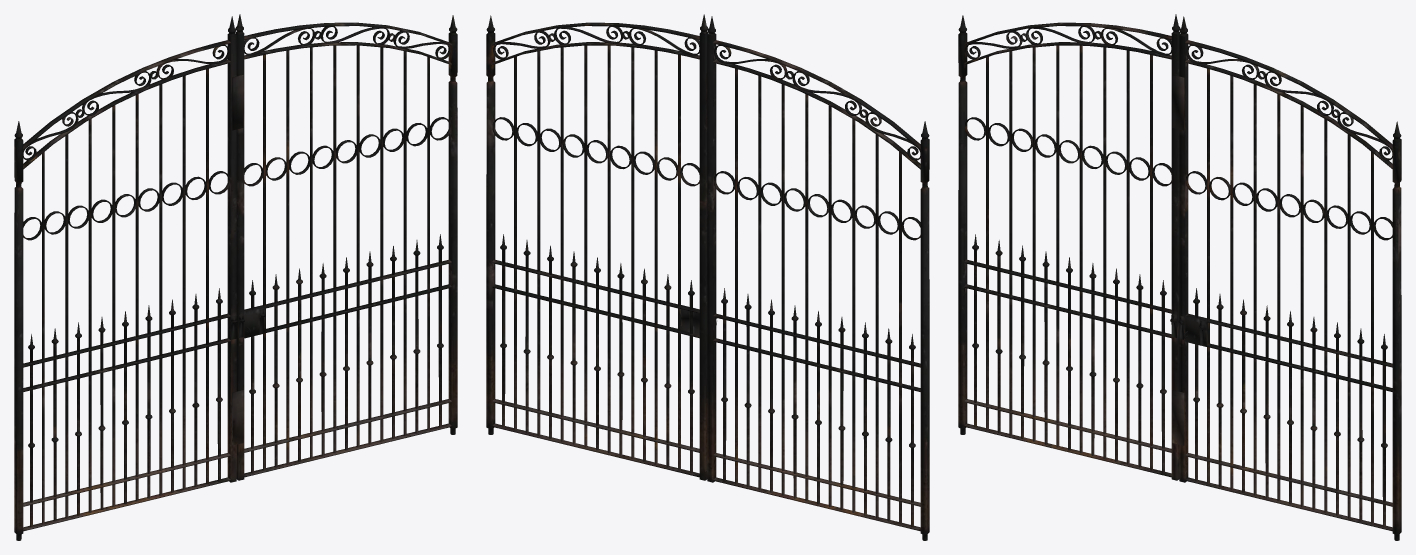
The model's file is cancello.glb.
The picture shows the model from 3 angles, left to right: view 1: azimuth 30°, elevation 25°; view 2: azimuth 150°, elevation 25°; view 3: azimuth 330°, elevation 25°; orthographic projection.
Visible parts, largest first — view 1: large_iron_gate_right_door, large_iron_gate_left_door; view 2: large_iron_gate_left_door, large_iron_gate_right_door; view 3: large_iron_gate_right_door, large_iron_gate_left_door.
Part boxes in pixels (x1=…): large_iron_gate_right_door: x1=232, y1=14, x2=457, y2=480; large_iron_gate_left_door: x1=14, y1=16, x2=237, y2=540; large_iron_gate_left_door: x1=707, y1=16, x2=929, y2=540; large_iron_gate_right_door: x1=486, y1=14, x2=708, y2=480; large_iron_gate_right_door: x1=1172, y1=16, x2=1401, y2=540; large_iron_gate_left_door: x1=958, y1=14, x2=1180, y2=480.
Size of the model in its own units: 2.87 by 2.93 by 0.0855.
Materials: 1 (1 with a texture image).
